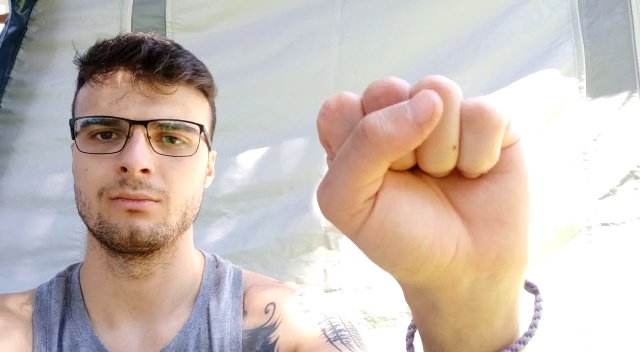Fist: (303, 69, 566, 297)
